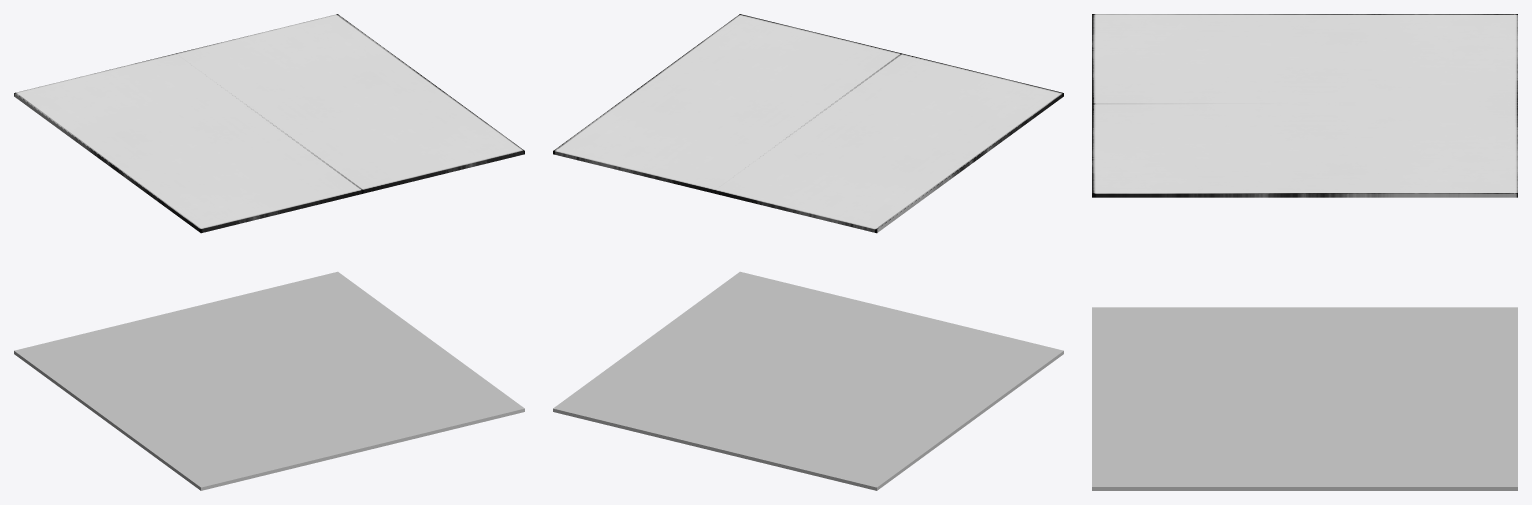
The model's file is Room_Open_001.FBX.
The picture shows the model from 3 angles, left to right: view 1: azimuth 30°, elevation 25°; view 2: azimuth 150°, elevation 25°; view 3: azimuth 270°, elevation 25°; orthographic projection. The views are drawn at different scales.
Visible parts, largest first — view 1: Room_Open_001; view 2: Room_Open_001; view 3: Room_Open_001.
Part boxes in pixels (left/top/right/bottom): Room_Open_001: left=14, top=14, right=524, bottom=490; Room_Open_001: left=553, top=14, right=1063, bottom=490; Room_Open_001: left=1092, top=14, right=1517, bottom=490.
Size of the model in its own units: 3 by 2.31 by 3.
